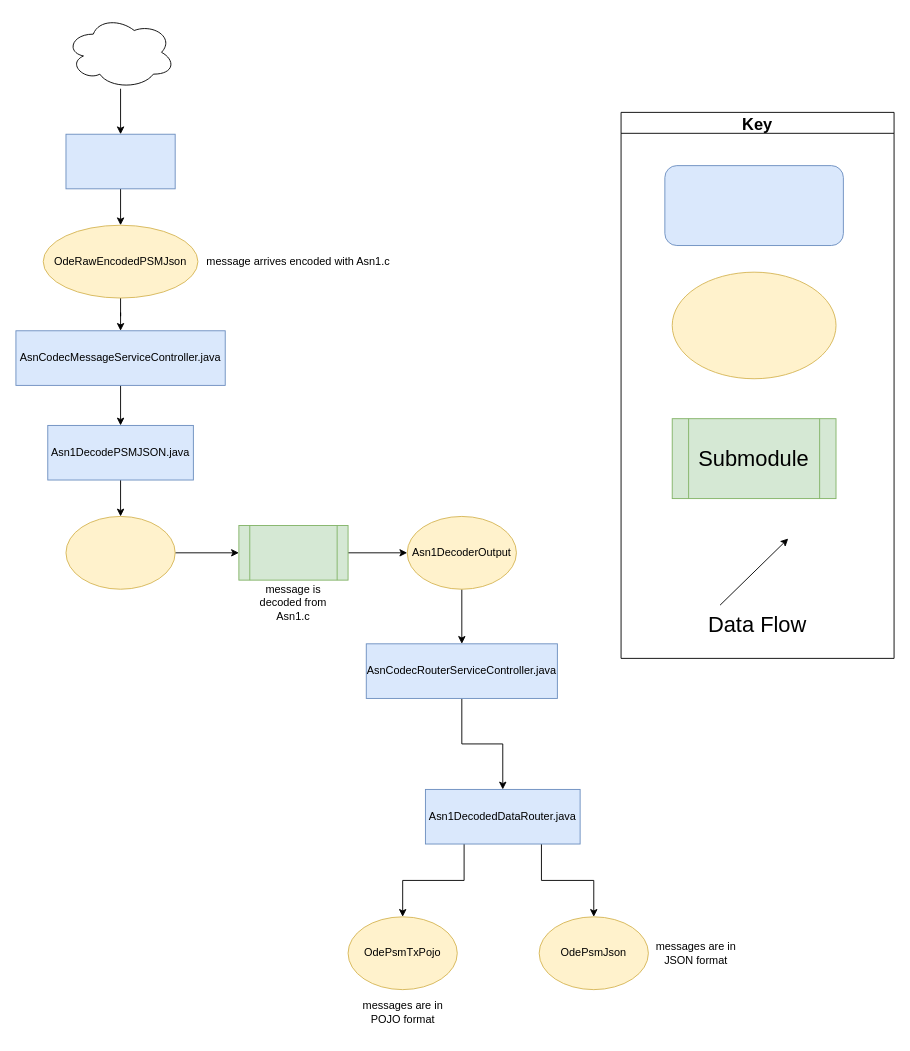
This 910x1051 diagram has some shape labels left out. Here are the shapes that lost their labels. From the top down, the centre of each, then its label:
At (120,161): "PsmReceiver.java".
At (753,205): "ODE Java Class".
At (753,325): "Kafka Topic".
At (120,552): "Asn1DecoderInput".
At (293,552): "ACM (ADM)".
